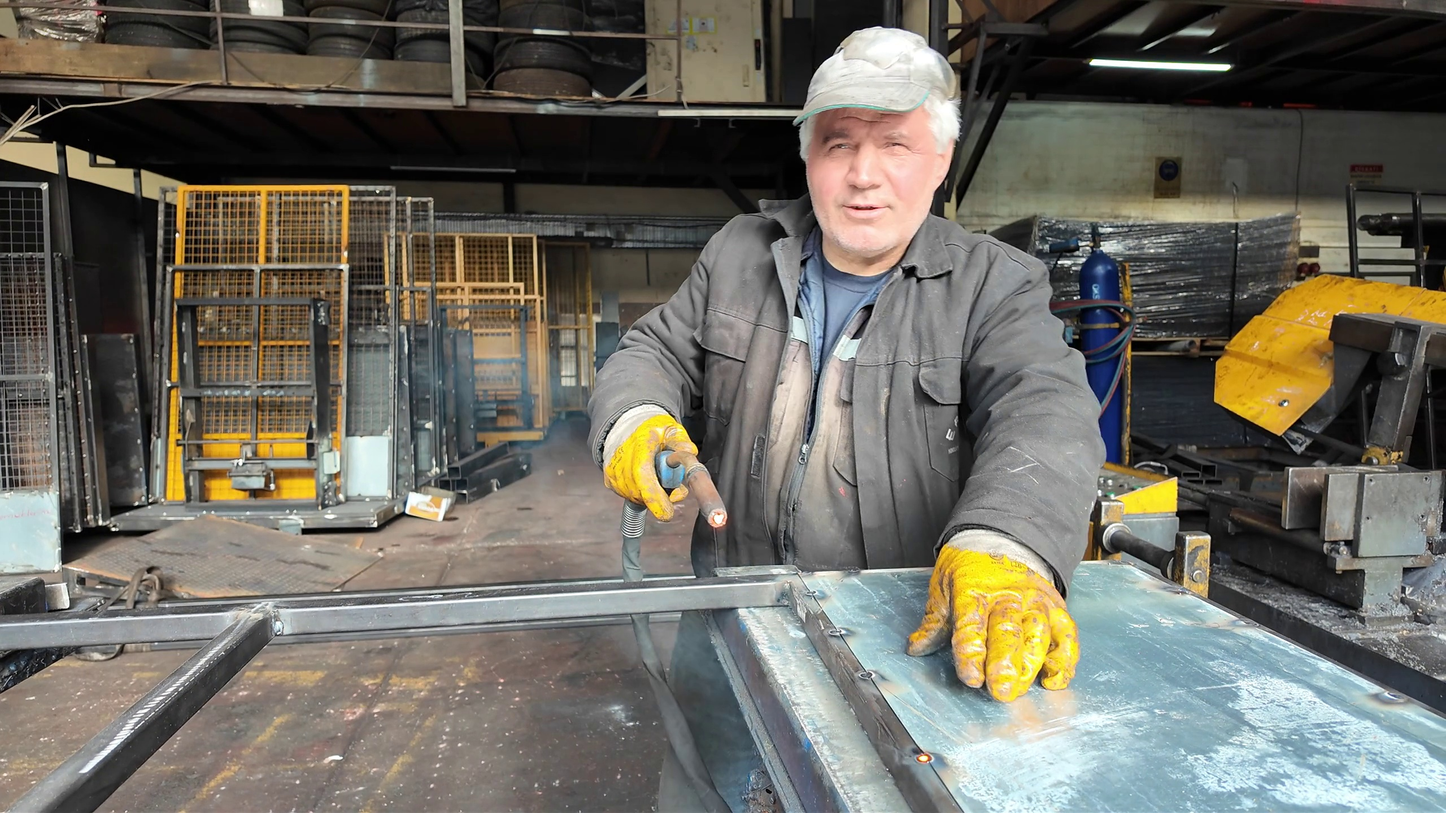person: (585, 27, 1107, 706)
